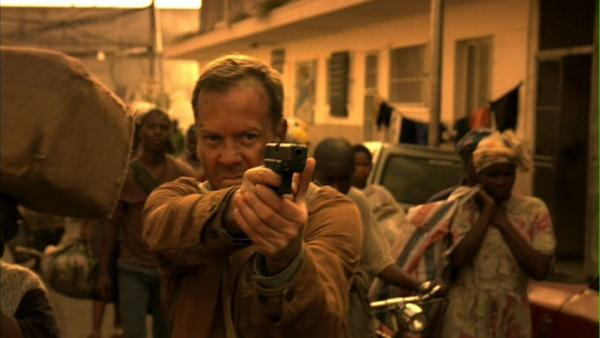Gun: (262, 140, 311, 196)
